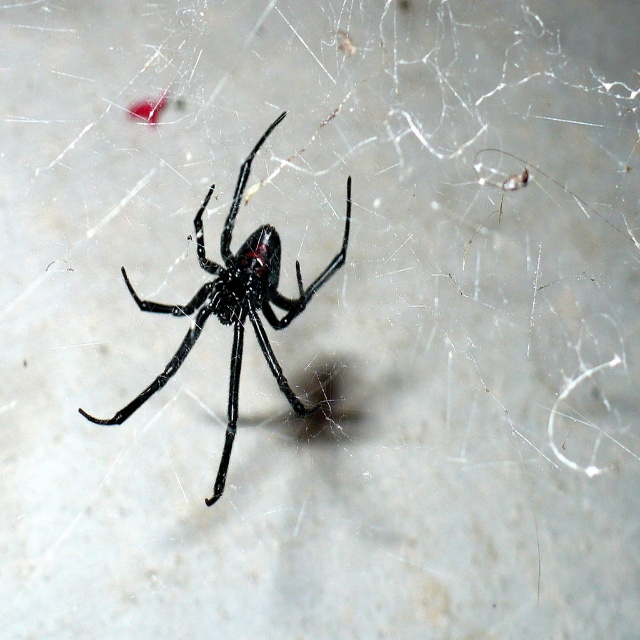Spider: (77, 109, 352, 508)
